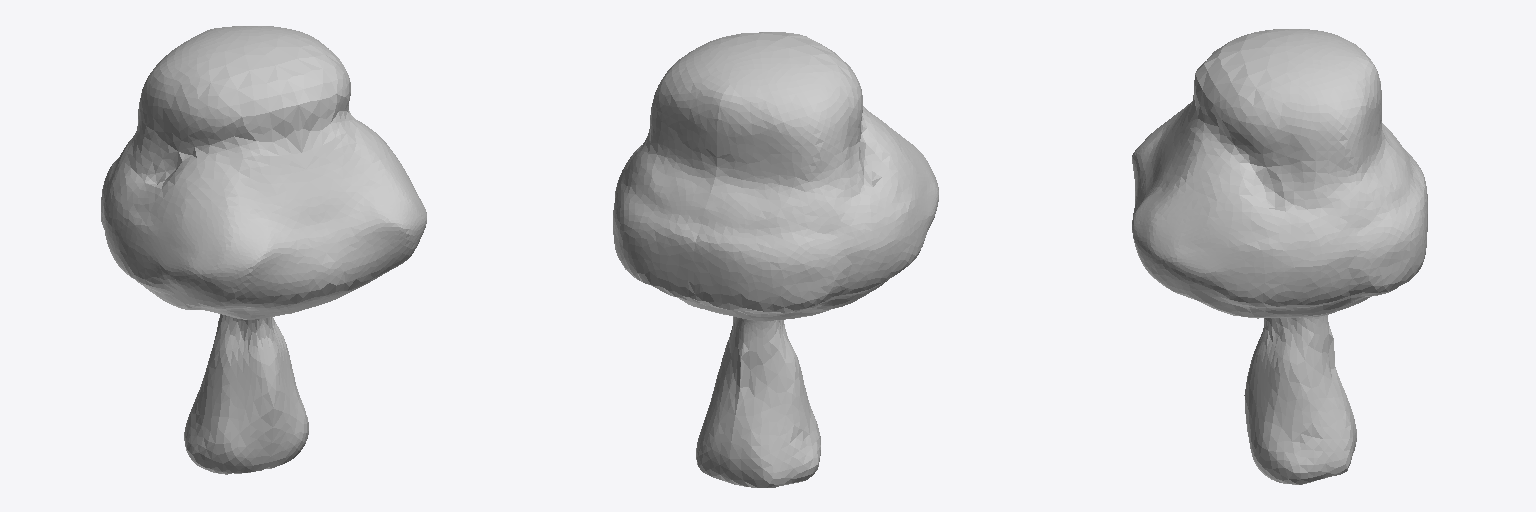
File: tree_model.obj
3 views of the same model, side by side, from view 1: azimuth 30°, elevation 25°; view 2: azimuth 150°, elevation 25°; view 3: azimuth 270°, elevation 25° (orthographic).
Size of the model in its own units: 1.34 by 1.99 by 1.27.